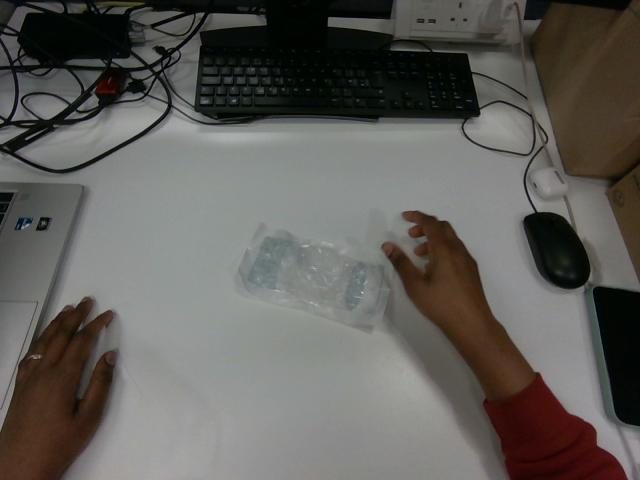gallipot: (239, 225, 389, 325)
